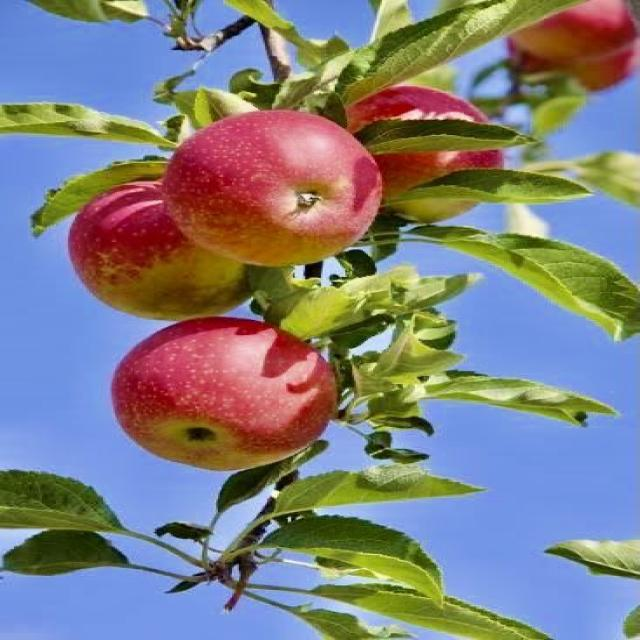Tao: (158, 108, 382, 274), (106, 316, 332, 466), (326, 82, 519, 231), (66, 180, 253, 319), (481, 0, 640, 93)
